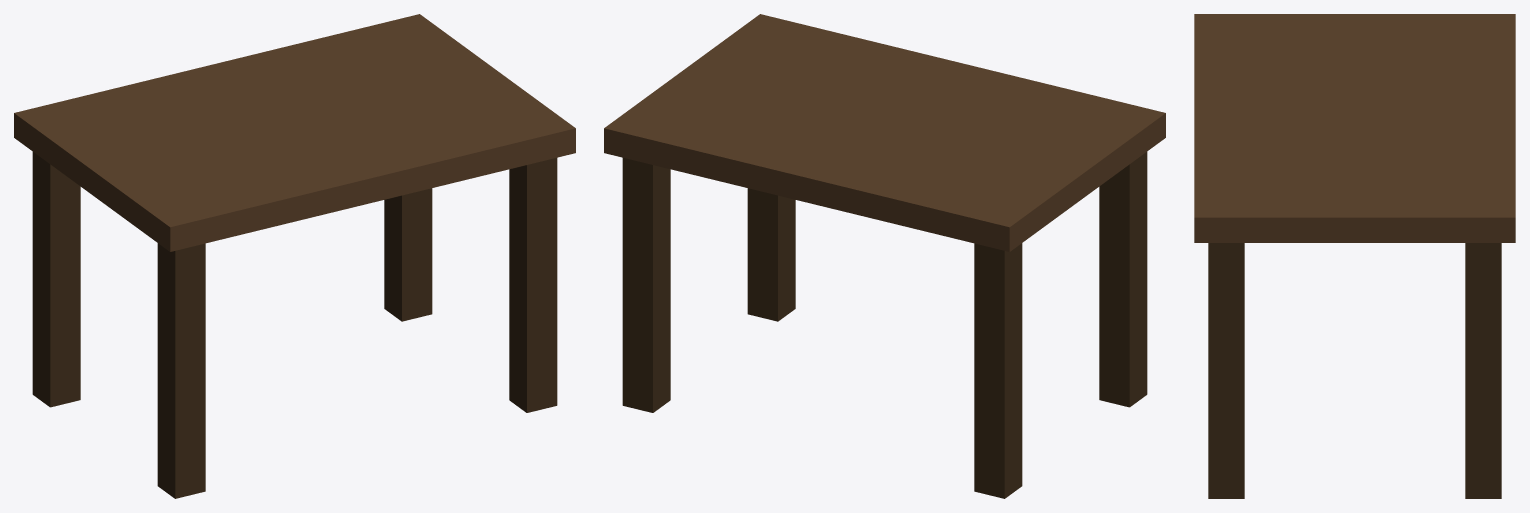
Rendered from table.glb.
The picture shows the model from 3 angles, left to right: view 1: azimuth 30°, elevation 25°; view 2: azimuth 150°, elevation 25°; view 3: azimuth 270°, elevation 25°; orthographic projection. The views are drawn at different scales.
Bounding box in the file's own units: 1.2 × 0.79 × 0.8.
